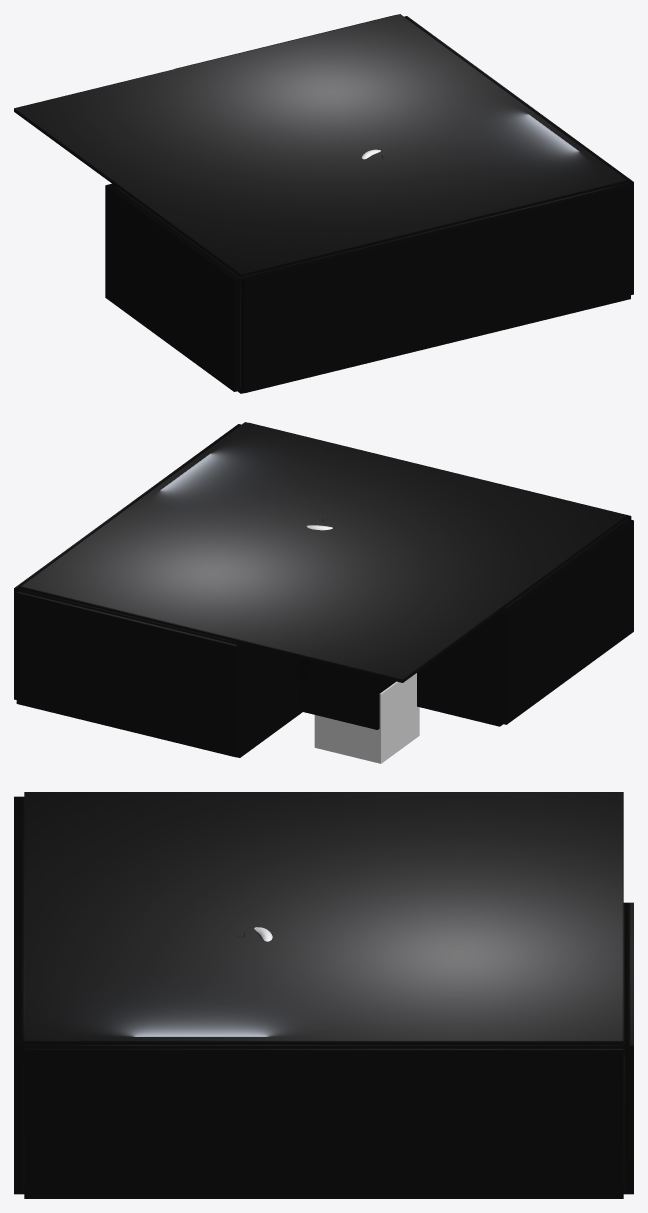
File: thang-may-room.glb
3 views of the same model, one above another, from view 1: azimuth 30°, elevation 25°; view 2: azimuth 150°, elevation 25°; view 3: azimuth 270°, elevation 25° (orthographic). The views are drawn at different scales.
Parts seen in each view (by area): view 1: Room_Ceiling, Wall_Front, Wall_Left.001, Wall_Right.001; view 2: Room_Ceiling, Wall_Back.001, Wall_Left.001, Wall_Lobby_L, Wall_Recess_Side, Cube, Shaft_Back, Wall_Right.001; view 3: Room_Ceiling, Wall_Right.001, Wall_Front, Wall_Back.001.
Part boxes in pixels (box(x1,y1,x2,y2)): Room_Ceiling: box(14, 14, 627, 277); Wall_Front: box(241, 183, 630, 392); Wall_Left.001: box(105, 183, 240, 391); Wall_Right.001: box(404, 16, 633, 294); Room_Ceiling: box(20, 422, 627, 682); Wall_Back.001: box(16, 590, 239, 757); Wall_Left.001: box(500, 519, 633, 724); Wall_Lobby_L: box(417, 612, 499, 723); Wall_Recess_Side: box(240, 643, 299, 754); Cube: box(314, 673, 419, 763); Shaft_Back: box(299, 658, 375, 729); Wall_Right.001: box(14, 424, 240, 699); Room_Ceiling: box(24, 792, 623, 1045); Wall_Right.001: box(24, 1045, 623, 1198); Wall_Front: box(14, 796, 24, 1194); Wall_Back.001: box(623, 902, 633, 1194).
Bounding box in the file's own units: 11.9 × 4.4 × 12.1.
36 materials, 19 textured.
